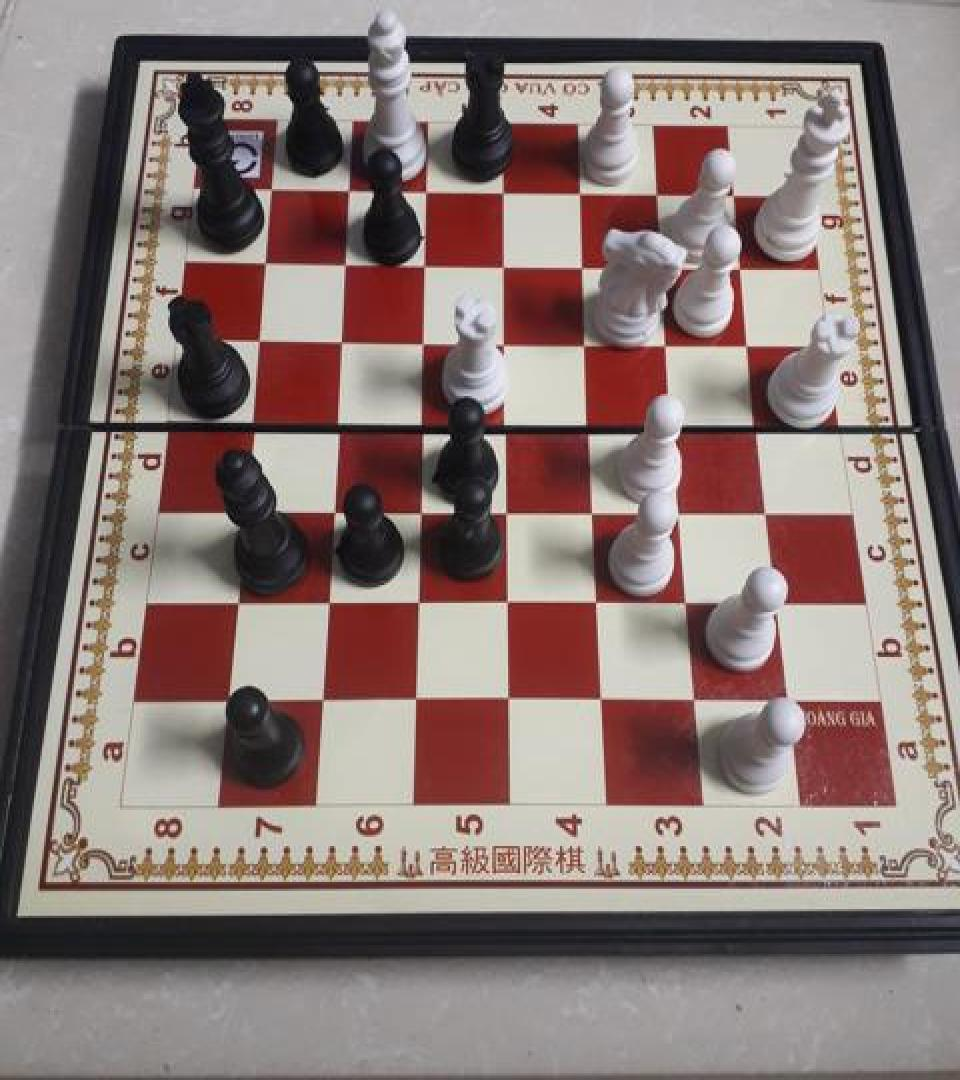xcorner: (222, 579, 254, 616), (313, 579, 345, 616), (403, 580, 435, 617), (493, 580, 525, 617), (583, 580, 615, 617), (673, 580, 705, 617), (762, 581, 794, 618), (213, 678, 245, 714), (307, 680, 339, 716), (401, 680, 433, 716), (494, 680, 526, 716), (587, 680, 619, 716), (680, 680, 712, 716), (773, 680, 805, 716), (230, 486, 262, 522), (318, 487, 350, 523), (405, 487, 437, 523), (492, 487, 524, 523), (579, 488, 611, 524), (666, 488, 698, 524), (753, 490, 785, 526), (238, 400, 270, 436), (323, 400, 355, 436), (407, 400, 439, 436), (492, 400, 524, 436), (576, 402, 608, 438), (660, 402, 692, 438), (744, 403, 776, 439), (245, 318, 277, 354), (327, 318, 359, 354), (409, 320, 441, 356), (491, 320, 523, 356), (573, 320, 605, 356), (654, 320, 686, 356), (735, 322, 767, 358), (252, 242, 284, 278), (332, 242, 364, 278), (411, 243, 443, 279), (490, 243, 522, 279), (570, 244, 602, 280), (649, 244, 681, 280), (727, 245, 759, 281), (258, 169, 290, 205), (336, 170, 368, 206), (413, 171, 445, 207), (490, 171, 522, 207), (567, 172, 599, 208), (643, 173, 675, 209), (720, 173, 752, 209)
